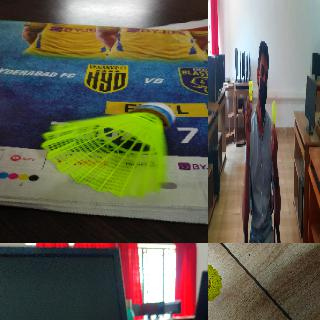shuttlecock: (41, 103, 176, 195), (208, 261, 222, 304), (248, 81, 253, 107), (272, 100, 276, 125)
